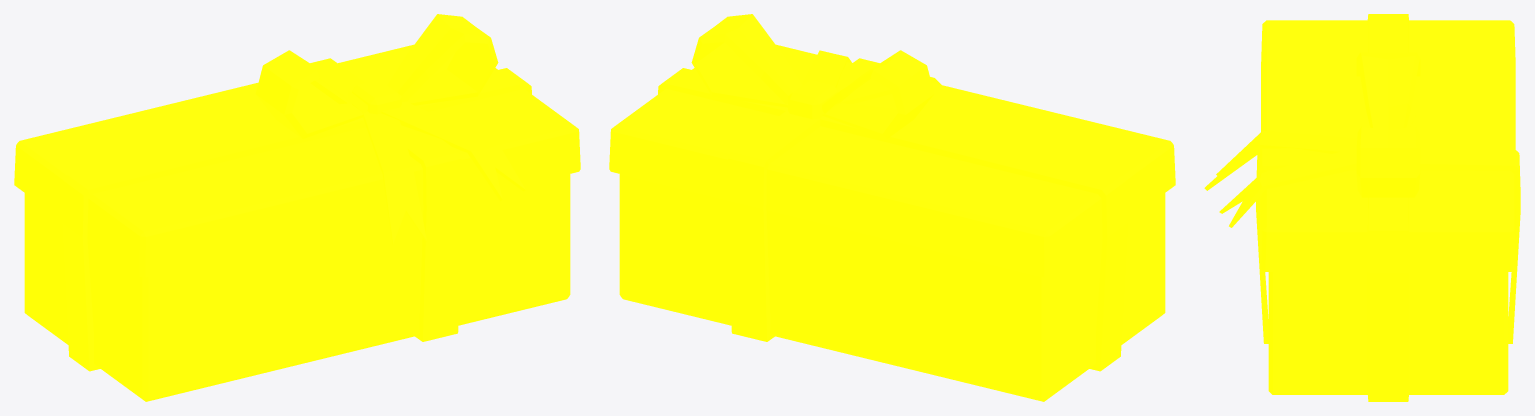
Rendered from gift-christmas-long-a.glb.
3 renders of one model, left to right at view 1: azimuth 30°, elevation 25°; view 2: azimuth 150°, elevation 25°; view 3: azimuth 270°, elevation 25°, orthographic.
Parts seen in each view (by area): view 1: gift_christmas_long_a; view 2: gift_christmas_long_a; view 3: gift_christmas_long_a.
Boxes of the visible parts, <box> form: gift_christmas_long_a: <box>14,14,580,401</box>; gift_christmas_long_a: <box>609,14,1175,401</box>; gift_christmas_long_a: <box>1204,14,1520,401</box>.
Size of the model in its own units: 0.6387 by 0.3407 by 0.3963.
1 material, 1 textured.
